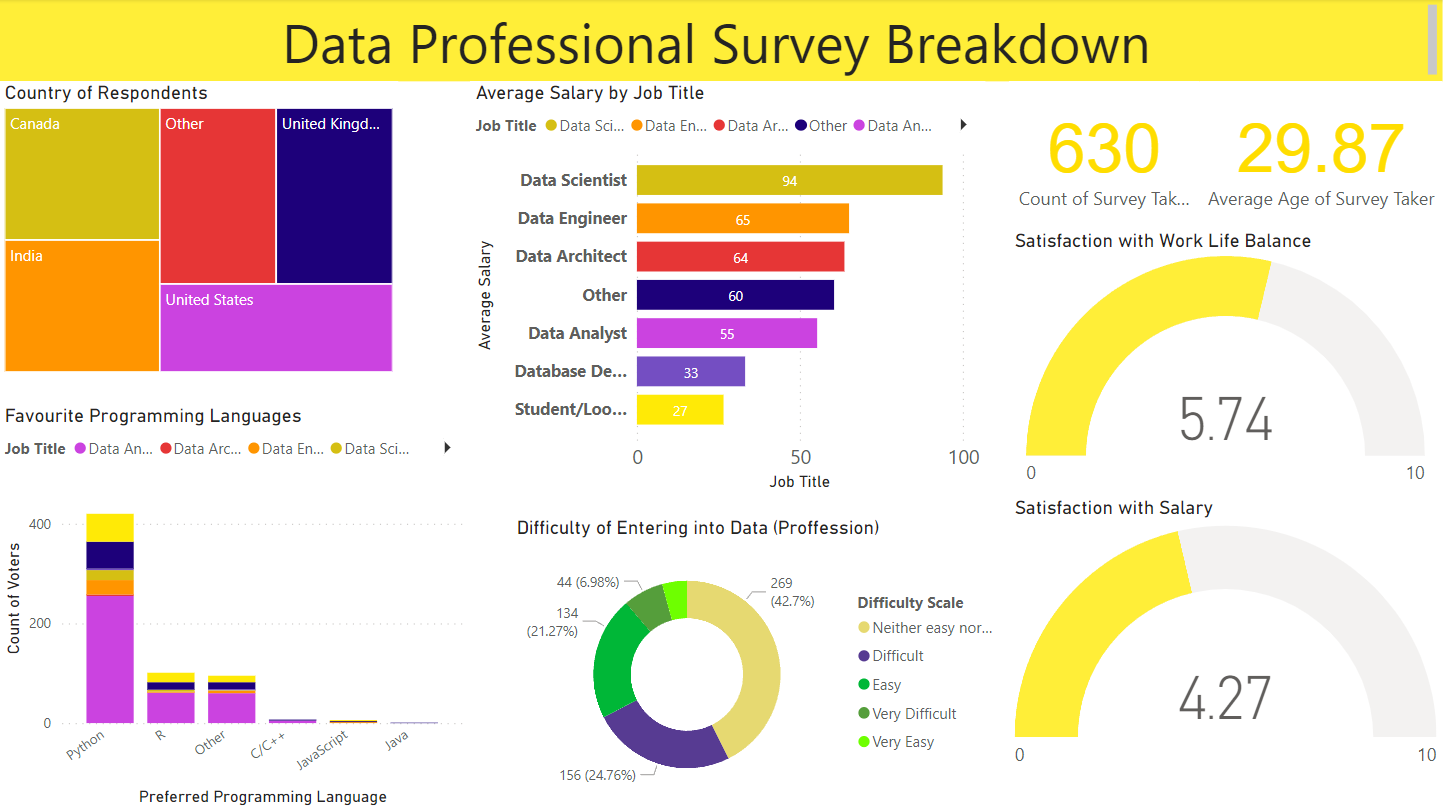

Layout of this report page (visuals, bound fields, positions):
{"tool":"powerbi","page":{"name":"Page 1","canvas":[1280,720],"ordinal":0},"visuals":[{"type":"textbox","box":[0,0,1280,72.9],"z":0},{"type":"card","fields":{"Values":["Count(Data Professional Survey (2).Unique ID)"]},"box":[895.8,72.9,168.9,130.8],"z":1},{"type":"card","fields":{"Values":["Avg(Data Professional Survey (2).Q10 - Current Age)"]},"box":[1064.7,72.9,215.3,130.8],"z":2},{"type":"barChart","title":"Average Salary by Job Title","fields":{"Category":["Data Professional Survey (2).Q1 - Which Title Best Fits your Current Role?.1","Data Professional Survey (2).Q11 - Which Country do you live in?.1"],"Y":["Avg(Data Professional Survey (2).Average Salary)"],"Series":["Data Professional Survey (2).Q1 - Which Title Best Fits your Current Role?.1"]},"box":[417.3,72.9,457,367.6],"z":3},{"type":"columnChart","title":"Favourite Programming Languages","fields":{"Category":["Data Professional Survey (2).Q5 - Favorite Programming Language.1"],"Y":["CountNonNull(Data Professional Survey (2).Unique ID)"],"Series":["Data Professional Survey (2).Q1 - Which Title Best Fits your Current Role?.1"]},"box":[0,359.3,417.3,361],"z":4},{"type":"treemap","title":"Country of Respondents","fields":{"Group":["Data Professional Survey (2).Q11 - Which Country do you live in?.1"],"Values":["Count(Data Professional Survey (2).Q11 - Which Country do you live in?.1)"]},"box":[0,72.9,354.4,263.3],"z":5},{"type":"gauge","title":"Satisfaction with Work Life Balance","fields":{"Y":["Avg(Data Professional Survey (2).Q6 - How Happy are you in your Current Position with the following? (Work/Life Balance)"],"MinValue":["Min(Data Professional Survey (2).Q6 - How Happy are you in your Current Position with the following? (Work/Life Balance)"],"MaxValue":["Max(Data Professional Survey (2).Q6 - How Happy are you in your Current Position with the following? (Work/Life Balance)"]},"box":[895.8,203.7,384.2,236.8],"z":6},{"type":"gauge","title":"Satisfaction with Salary","fields":{"Y":["Avg(Data Professional Survey (2).Q6 - How Happy are you in your Current Position with the following? (Salary))"],"MinValue":["Min(Data Professional Survey (2).Q6 - How Happy are you in your Current Position with the following? (Salary))"],"MaxValue":["Max(Data Professional Survey (2).Q6 - How Happy are you in your Current Position with the following? (Salary))"]},"box":[895.8,440.5,384.2,251.7],"z":7},{"type":"donutChart","title":"Difficulty of Entering into Data (Proffession)","fields":{"Category":["Data Professional Survey (2).Q7 - How difficult was it for you to break into Data?"],"Y":["CountNonNull(Data Professional Survey (2).Q7 - How difficult was it for you to break into Data?)"]},"box":[453.7,458.7,442.1,261.6],"z":8}]}

Visuals, with their boxes in screenshot pixels (x1, y1, x2, y2), scaled from the page's 1280x720 canvas onto the 1443x811 screenshot:
textbox: 0 0 1442 82
card - Count(Data Professional Survey (2).Unique ID): 1010 82 1200 229
card - Avg(Data Professional Survey (2).Q10 - Current Age): 1200 82 1442 229
"Average Salary by Job Title" barChart: 470 82 986 496
"Favourite Programming Languages" columnChart: 0 405 470 810
"Country of Respondents" treemap: 0 82 400 379
"Satisfaction with Work Life Balance" gauge: 1010 229 1442 496
"Satisfaction with Salary" gauge: 1010 496 1442 780
"Difficulty of Entering into Data (Proffession)" donutChart: 511 517 1010 810
